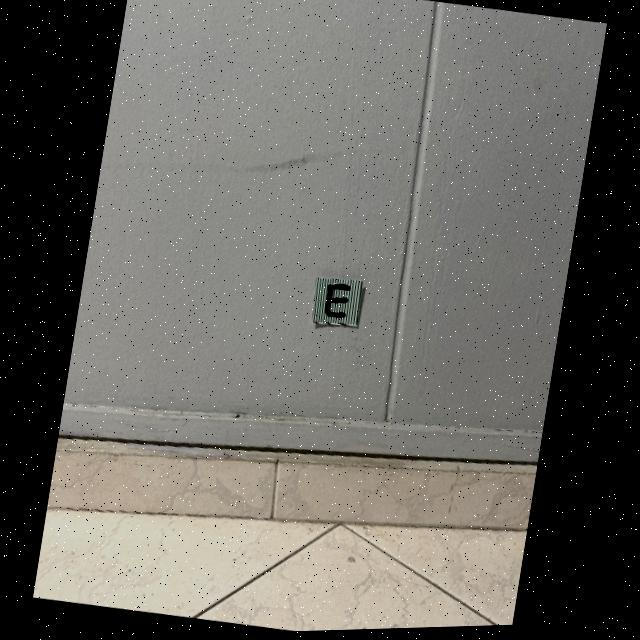E: (325, 287, 351, 321)
